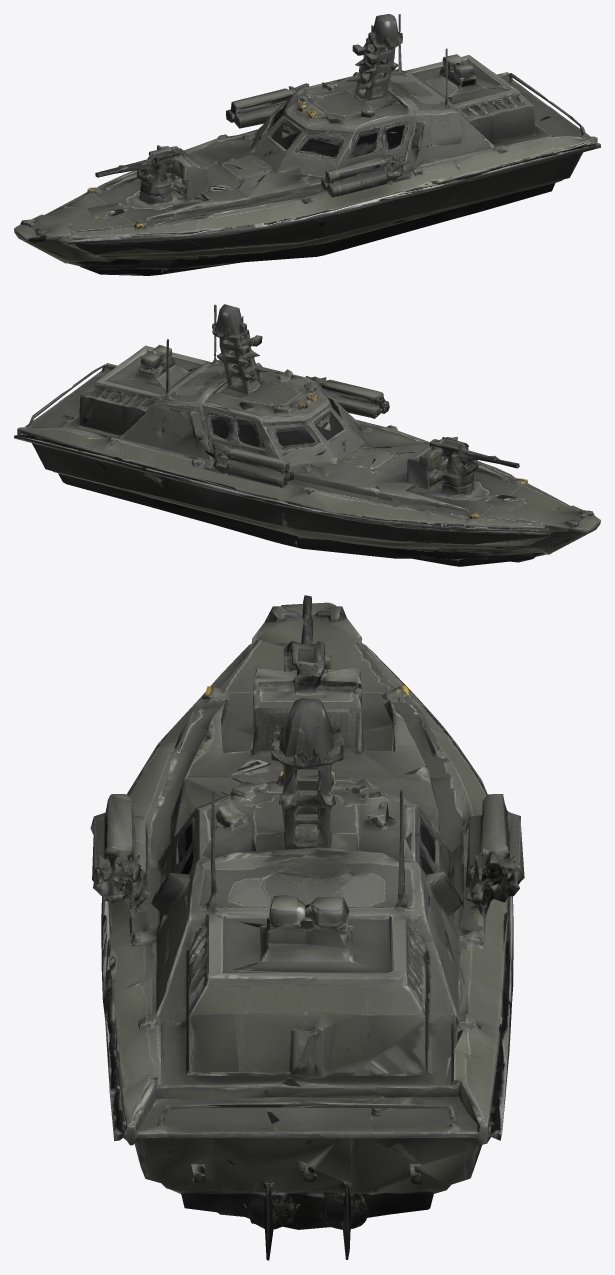
File: irgc-fast-attack-craft-meshy6-web-strategic-v4.glb
3 views of the same model, one above another, from view 1: azimuth 30°, elevation 25°; view 2: azimuth 150°, elevation 25°; view 3: azimuth 270°, elevation 25° (orthographic). The views are drawn at different scales.
Bounding box in the file's own units: 1.89 × 0.6913 × 0.6664.
1 material, 1 textured.
